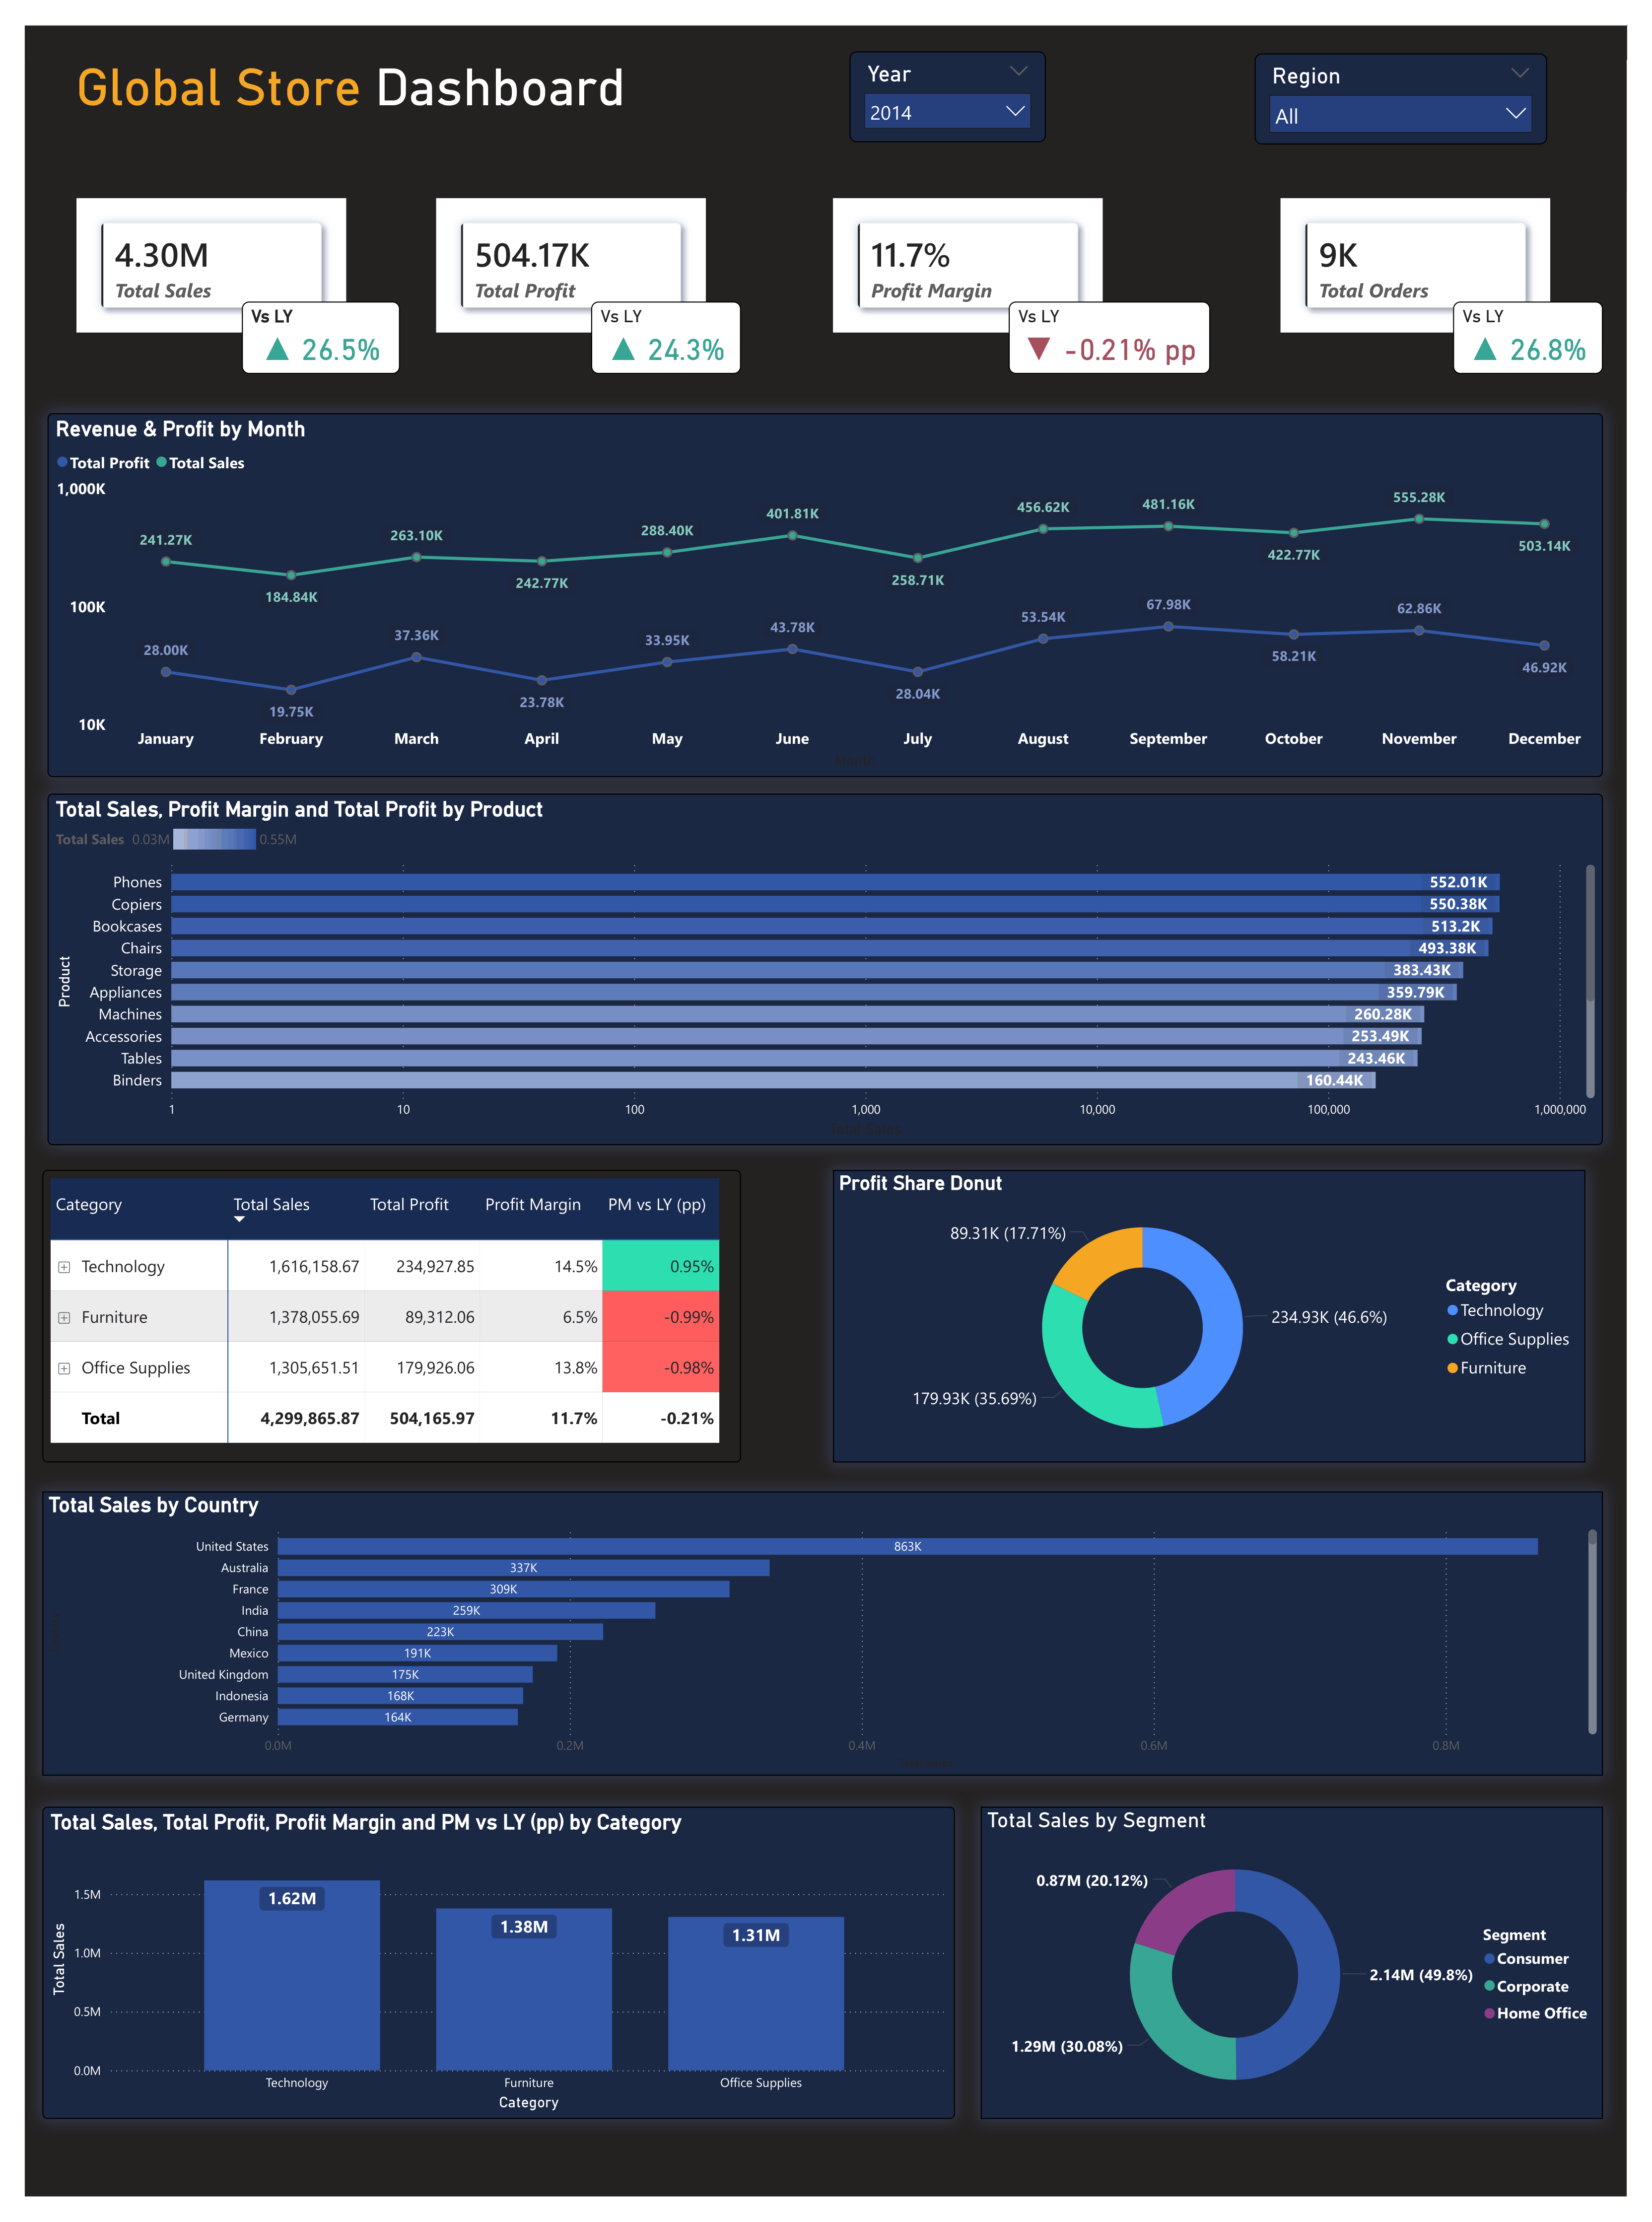

Layout of this report page (visuals, bound fields, positions):
{"tool":"powerbi","page":{"name":"Page 1","canvas":[1550,2100],"ordinal":0},"visuals":[{"type":"cardVisual","fields":{"Data":["Sales.Total Sales"]},"box":[45,161.7,271.7,140],"z":1000},{"type":"cardVisual","fields":{"Data":["Sales.Total Profit"]},"box":[393.3,161.7,271.7,140],"z":2000},{"type":"cardVisual","fields":{"Data":["Sales.Profit_Margin"]},"box":[776.7,161.7,271.7,140],"z":3000},{"type":"cardVisual","fields":{"Data":["Sales.Total Orders"]},"box":[1210,161.7,271.7,140],"z":4000},{"type":"lineChart","title":"Revenue & Profit by Month","fields":{"Y":["Sales.Total Profit","Sales.Total Sales"],"Category":["DateTable.Date.Variation.Date Hierarchy.Month"]},"box":[21.7,375,1505,351.7],"z":5000},{"type":"clusteredBarChart","fields":{"Y":["Sales.Total Sales"],"Category":["Product.Sub-Category"]},"box":[21.7,743.3,1505,340],"z":6000},{"type":"slicer","fields":{"Values":["Customer.Region"]},"box":[1190,26.7,283.3,88.3],"z":7000},{"type":"slicer","fields":{"Values":["DateTable.Date.Variation.Date Hierarchy.Year"]},"box":[798.3,25,190,88.3],"z":8000},{"type":"card","title":"Vs LY","fields":{"Values":["Customer.Sales vs LY Label"]},"box":[210,266.7,153.3,70],"z":9000},{"type":"card","title":"Vs LY","fields":{"Values":["Sales.Profit vs LY Label"]},"box":[548.3,266.7,145,70],"z":10000},{"type":"card","title":"Vs LY","fields":{"Values":["Customer.PM vs LY Label"]},"box":[951.7,266.7,195,70],"z":11000},{"type":"card","title":"Vs LY","fields":{"Values":["Sales.Orders vs LY Label"]},"box":[1381.7,266.7,145,70],"z":12000},{"type":"lineStackedColumnComboChart","fields":{"Category":["Product.Category"],"Y":["Sales.Total Sales"]},"box":[16.7,1723.3,883.3,301.7],"z":13000},{"type":"pivotTable","fields":{"Rows":["Product.Category","Product.Sub-Category"],"Values":["Sales.Total Sales","Sales.Total Profit","Sales.Profit Margin","Customer.PM vs LY (pp)"]},"box":[16.7,1106.7,676.7,283.3],"z":14000},{"type":"donutChart","title":"Profit Share Donut","fields":{"Category":["Product.Category"],"Y":["Sales.Total Profit"]},"box":[781.7,1106.7,728.3,283.3],"z":15000},{"type":"clusteredBarChart","fields":{"Category":["Customer.Country"],"Y":["Sales.Total Sales"]},"box":[16.7,1418.3,1510,275],"z":16000},{"type":"donutChart","title":"Total Sales by Segment","fields":{"Category":["Customer.Segment"],"Y":["Sales.Total Sales"]},"box":[925,1723.3,601.7,301.7],"z":17000},{"type":"textbox","box":[45,25,635,80],"z":18000}]}

Visuals, with their boxes on the page's 1550x2100 design canvas (x1, y1, x2, y2). These are canvas units, not pixel positions in the 1652x2222 screenshot, which may show the page scaled, cropped or inside an application window:
cardVisual - Sales.Total Sales: bbox(45, 162, 317, 302)
cardVisual - Sales.Total Profit: bbox(393, 162, 665, 302)
cardVisual - Sales.Profit_Margin: bbox(777, 162, 1048, 302)
cardVisual - Sales.Total Orders: bbox(1210, 162, 1482, 302)
"Revenue & Profit by Month" lineChart: bbox(22, 375, 1527, 727)
clusteredBarChart - Sales.Total Sales x Product.Sub-Category: bbox(22, 743, 1527, 1083)
slicer - Customer.Region: bbox(1190, 27, 1473, 115)
slicer - DateTable.Date.Variation.Date Hierarchy.Year: bbox(798, 25, 988, 113)
"Vs LY" card: bbox(210, 267, 363, 337)
"Vs LY" card: bbox(548, 267, 693, 337)
"Vs LY" card: bbox(952, 267, 1147, 337)
"Vs LY" card: bbox(1382, 267, 1527, 337)
lineStackedColumnComboChart - Product.Category x Sales.Total Sales: bbox(17, 1723, 900, 2025)
pivotTable - Product.Category x Product.Sub-Category: bbox(17, 1107, 693, 1390)
"Profit Share Donut" donutChart: bbox(782, 1107, 1510, 1390)
clusteredBarChart - Customer.Country x Sales.Total Sales: bbox(17, 1418, 1527, 1693)
"Total Sales by Segment" donutChart: bbox(925, 1723, 1527, 2025)
textbox: bbox(45, 25, 680, 105)
